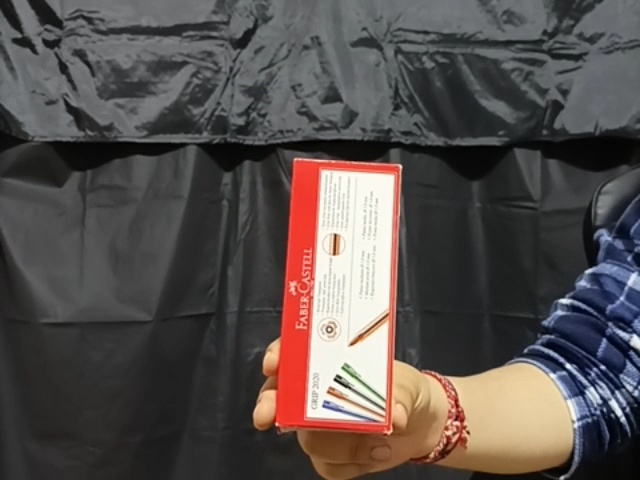xd: (285, 155, 401, 436)
